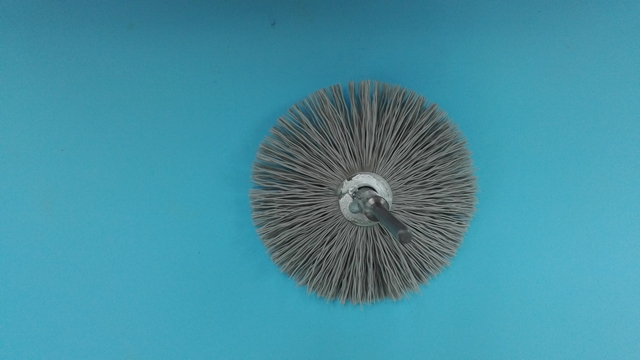TOOL: (180, 31, 540, 315), (228, 75, 488, 312), (240, 76, 473, 291)
